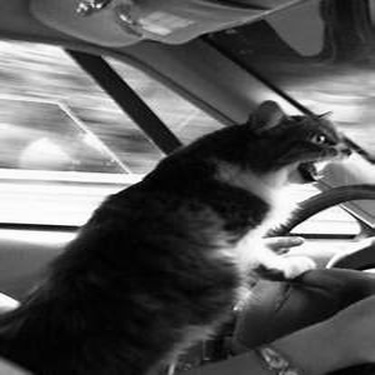cat: (10, 102, 355, 369)
